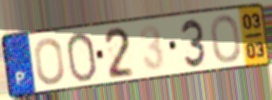2: (103, 25, 136, 80)
3: (180, 17, 207, 70), (139, 23, 166, 73)
O: (65, 31, 99, 84), (209, 13, 243, 65), (33, 37, 66, 87)
